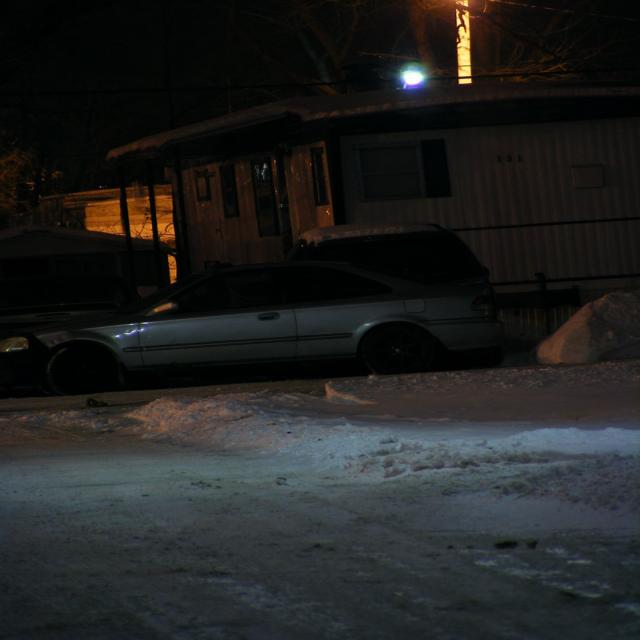car: (47, 273, 577, 422), (0, 220, 191, 415), (305, 185, 521, 321)
